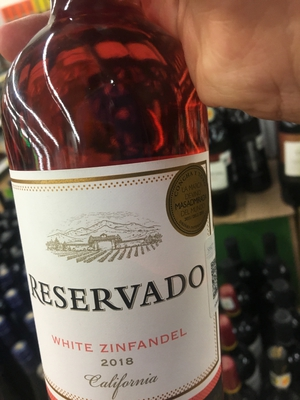reservado white zinfandel: (12, 10, 214, 400)
